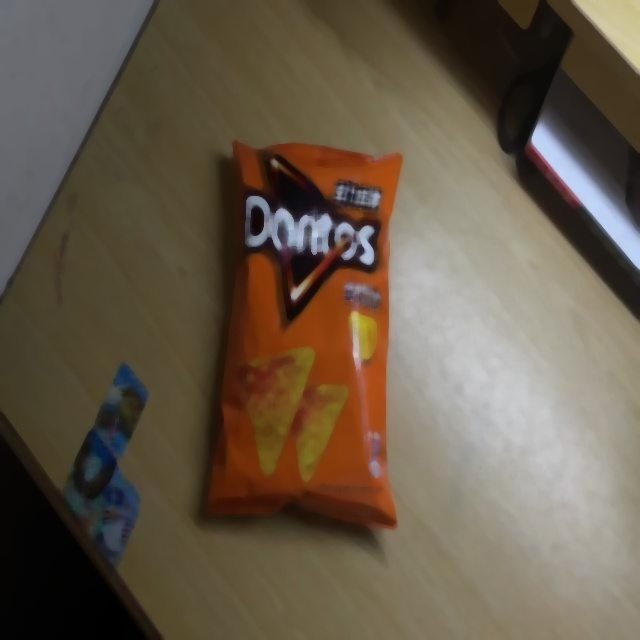Doritos: (201, 135, 405, 532)
